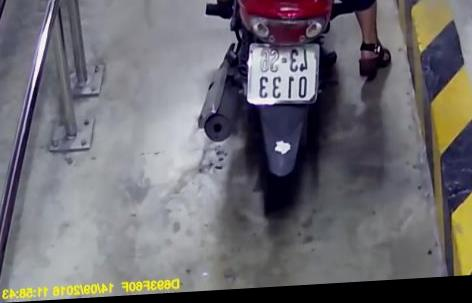License_Plate: (238, 35, 328, 113)
